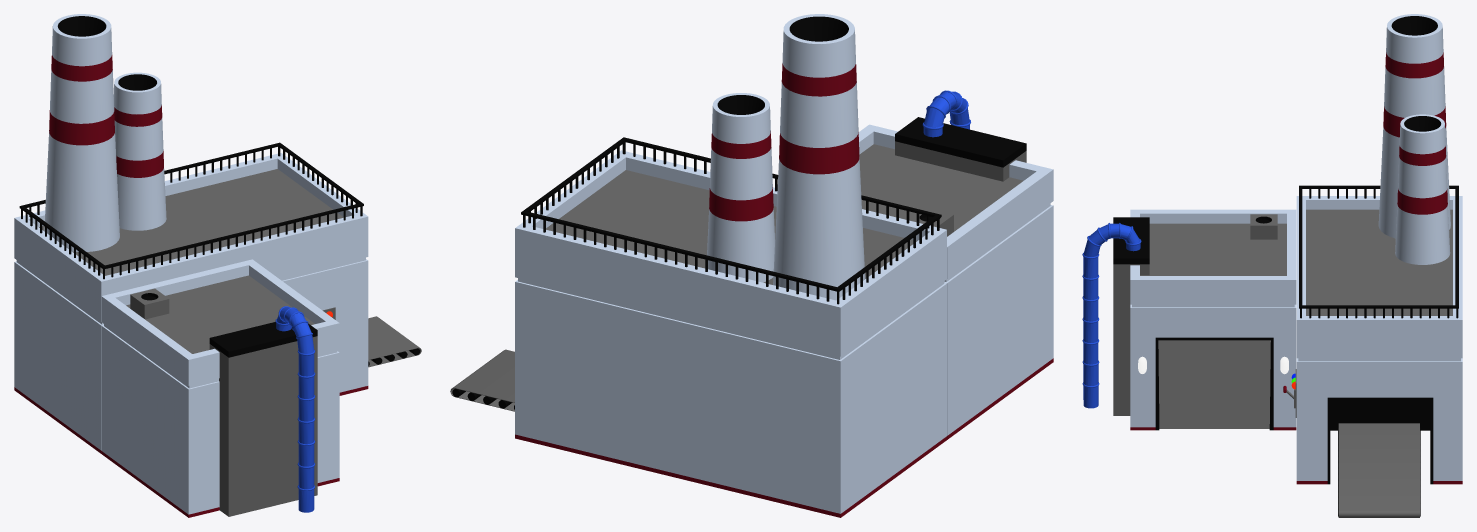
The model's file is Factory.glb.
3 views of the same model, side by side, from view 1: azimuth 30°, elevation 25°; view 2: azimuth 150°, elevation 25°; view 3: azimuth 270°, elevation 25° (orthographic). The views are drawn at different scales.
Parts seen in each view (by area): view 1: Factory; view 2: Factory; view 3: Factory.
Boxes of the visible parts, x1=… form: Factory: x1=14, y1=14, x2=421, y2=517; Factory: x1=450, y1=14, x2=1053, y2=517; Factory: x1=1082, y1=14, x2=1462, y2=517.
Size of the model in its own units: 4.53 by 4.71 by 4.58.
